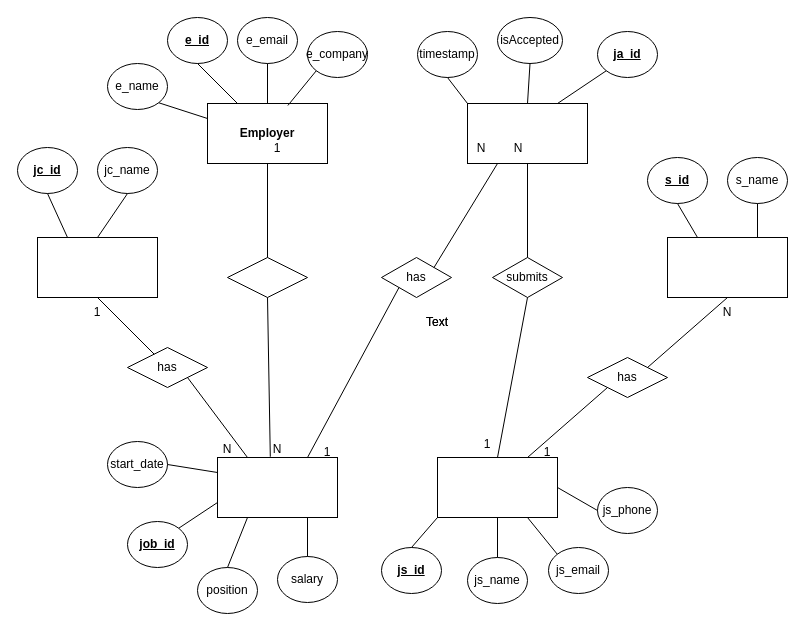
The diagram is 805 pixels wide and 631 high, and some of its shapes have lost their labels. The box of each missing label's shape, as (x1, y1, x2, y2) in pixels:
Job: (216, 456, 338, 518)
Job Application: (466, 102, 588, 164)
Job Category: (36, 236, 158, 298)
Job Seeker: (436, 456, 558, 518)
posts: (226, 256, 308, 298)
Skill: (666, 236, 788, 298)
